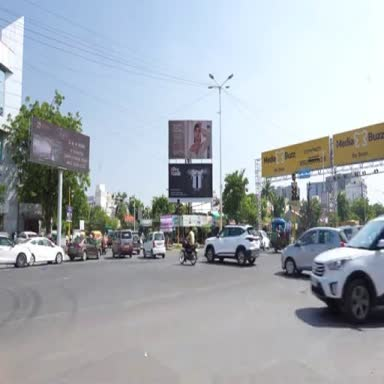Car: (311, 216, 383, 322), (281, 227, 347, 276), (204, 226, 260, 266), (20, 237, 64, 266), (0, 236, 32, 267), (68, 237, 101, 261), (112, 230, 134, 258), (143, 232, 166, 258), (339, 226, 358, 241), (256, 231, 269, 250), (17, 232, 38, 242), (132, 231, 141, 254)
